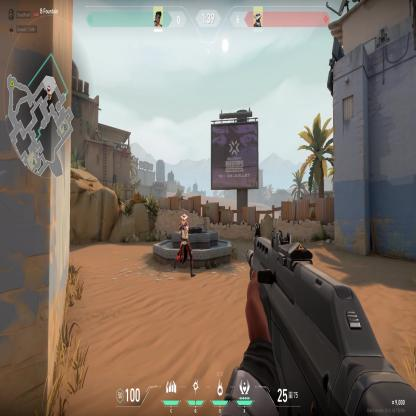enemy: (173, 211, 196, 280)
